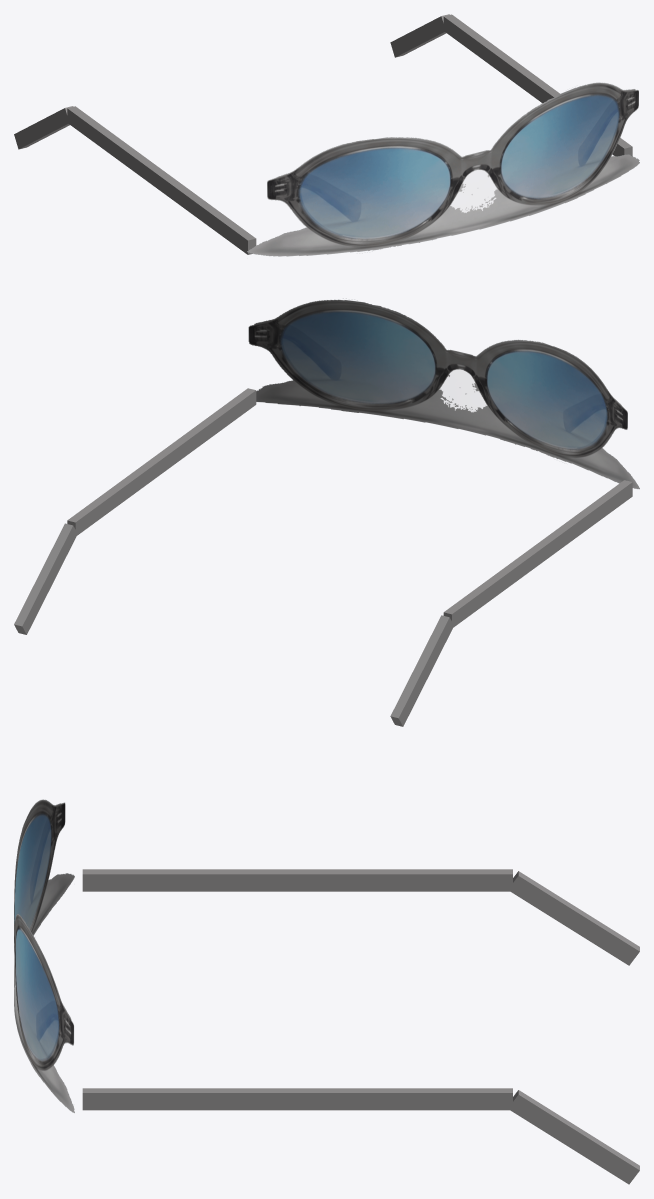
3 views of the same model, one above another, from view 1: azimuth 30°, elevation 25°; view 2: azimuth 150°, elevation 25°; view 3: azimuth 270°, elevation 25° (orthographic). The views are drawn at different scales.
Visible parts, largest first — view 1: anteojo; view 2: anteojo; view 3: anteojo.
Part boxes in pixels (x1,y1,x2,y2): anteojo: (14,14,639,256); anteojo: (14,299,639,726); anteojo: (14,799,639,1184).
Bounding box in the file's own units: 0.142 × 0.0589 × 0.1644.
2 materials, 1 textured.
